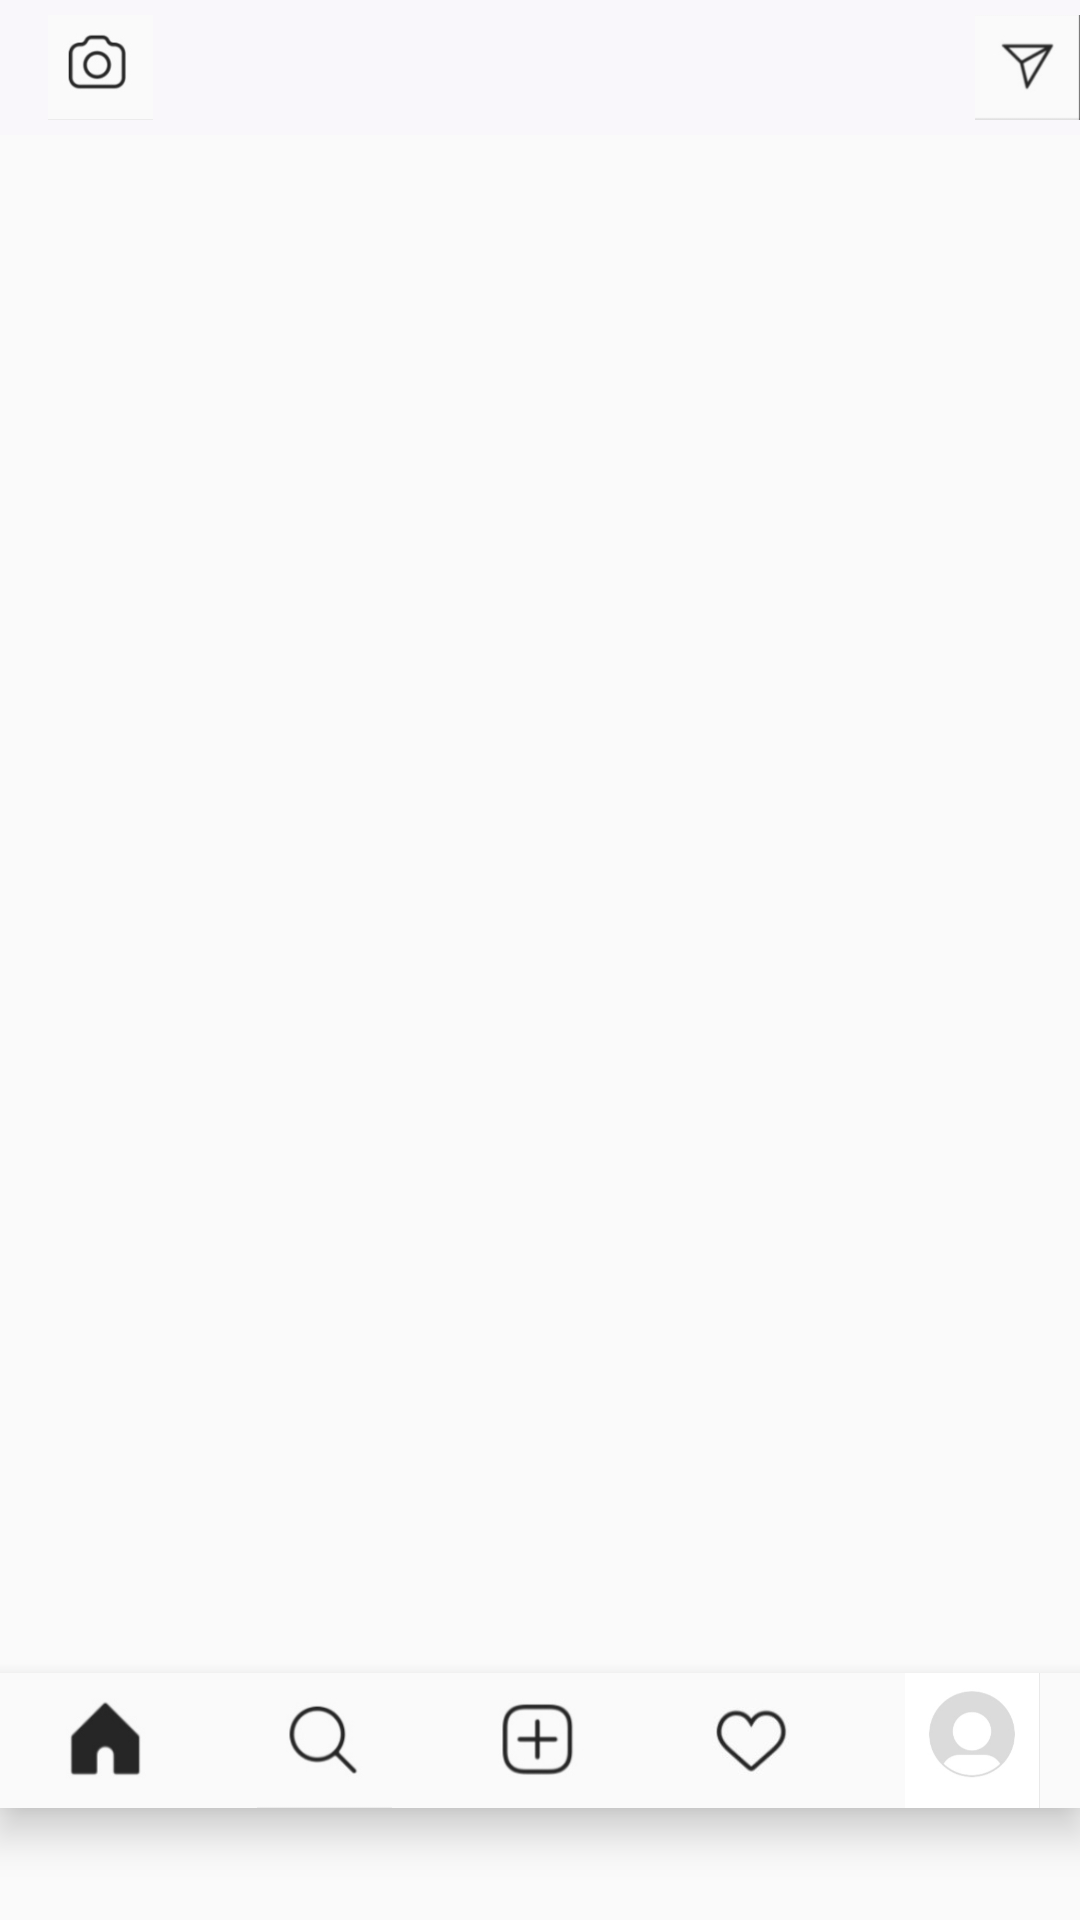

Where icons sit on this 1080*1920 app screen, as [x1, y1, x2, y2]:
btm add: [502, 1704, 573, 1775]
btm home: [70, 1702, 140, 1775]
btm like: [716, 1710, 786, 1772]
btm profile: [929, 1692, 1015, 1777]
btm search: [289, 1706, 357, 1774]
top camera: [68, 35, 126, 89]
